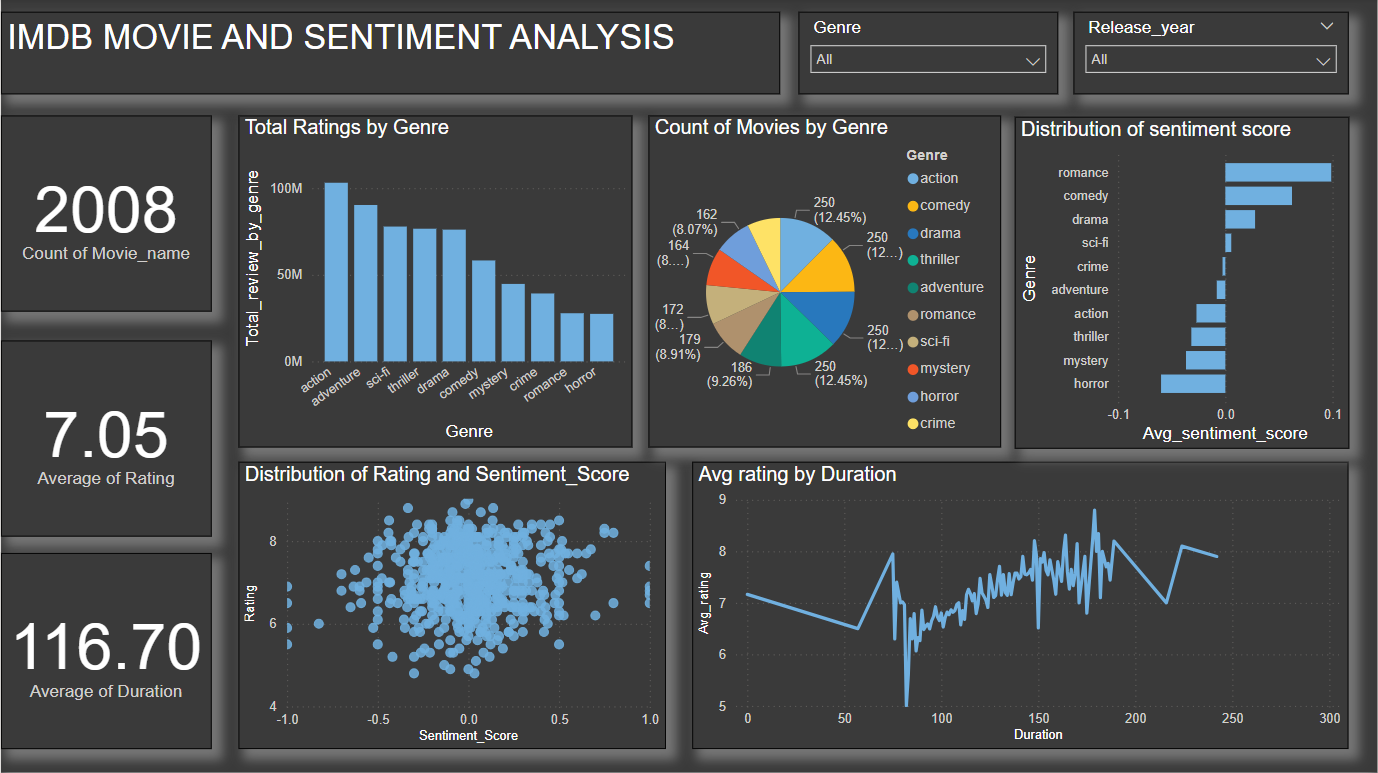

What the dashboard file says about the page in this screenshot:
{"tool":"powerbi","page":{"name":"Page 1","canvas":[1280,720],"ordinal":0},"visuals":[{"type":"columnChart","fields":{"Category":["Cleaned_Updated_Movies.Genre"],"Y":["Cleaned_Updated_Movies.Total_review_by_genre"]},"box":[220.9,109.8,366.4,308.7],"z":0},{"type":"scatterChart","title":"Rating VS Sentiment_Score","fields":{"X":["Cleaned_Updated_Movies.Sentiment_Score"],"Y":["Cleaned_Updated_Movies.Rating"]},"box":[220.9,430.9,397.9,267.6],"z":1000},{"type":"textbox","box":[0,12.3,724.5,76.8],"z":2000},{"type":"card","fields":{"Values":["Avg(Cleaned_Updated_Movies.Rating)"]},"box":[0,318.4,196.2,182.5],"z":3000},{"type":"card","fields":{"Values":["Avg(Cleaned_Updated_Movies.Duration)"]},"box":[0,516,196.2,182.5],"z":4000},{"type":"card","fields":{"Values":["CountNonNull(Cleaned_Updated_Movies.Movie_name)"]},"box":[0,109.8,196.2,182.5],"z":5000},{"type":"pieChart","fields":{"Category":["Cleaned_Updated_Movies.Genre"],"Y":["CountNonNull(Cleaned_Updated_Movies.Movie_name)"]},"box":[602.4,109.8,328,308.7],"z":6000},{"type":"lineChart","fields":{"Category":["Cleaned_Updated_Movies.Duration"],"Y":["Cleaned_Updated_Movies.Avg_rating"]},"box":[643.3,431.3,610,267.1],"z":7000},{"type":"slicer","fields":{"Values":["Cleaned_Updated_Movies.Genre"]},"box":[742.4,12.3,241.5,76.8],"z":8000},{"type":"clusteredBarChart","fields":{"Category":["Cleaned_Updated_Movies.Genre"],"Y":["Cleaned_Updated_Movies.Avg_sentiment_score"]},"box":[943,110,311,309],"z":9000},{"type":"slicer","fields":{"Values":["Cleaned_Updated_Movies.Release_year"]},"box":[997.7,12.5,255.7,76.9],"z":10000}]}

Visuals, with their boxes in screenshot pixels (x1, y1, x2, y2), scaled from the page's 1280x720 canvas onto the 1378x773 screenshot:
columnChart - Cleaned_Updated_Movies.Genre x Cleaned_Updated_Movies.Total_review_by_genre: {"left": 238, "top": 118, "right": 632, "bottom": 449}
"Rating VS Sentiment_Score" scatterChart: {"left": 238, "top": 463, "right": 666, "bottom": 750}
textbox: {"left": 0, "top": 13, "right": 780, "bottom": 96}
card - Avg(Cleaned_Updated_Movies.Rating): {"left": 0, "top": 342, "right": 211, "bottom": 538}
card - Avg(Cleaned_Updated_Movies.Duration): {"left": 0, "top": 554, "right": 211, "bottom": 750}
card - CountNonNull(Cleaned_Updated_Movies.Movie_name): {"left": 0, "top": 118, "right": 211, "bottom": 314}
pieChart - Cleaned_Updated_Movies.Genre x CountNonNull(Cleaned_Updated_Movies.Movie_name): {"left": 649, "top": 118, "right": 1002, "bottom": 449}
lineChart - Cleaned_Updated_Movies.Duration x Cleaned_Updated_Movies.Avg_rating: {"left": 693, "top": 463, "right": 1349, "bottom": 750}
slicer - Cleaned_Updated_Movies.Genre: {"left": 799, "top": 13, "right": 1059, "bottom": 96}
clusteredBarChart - Cleaned_Updated_Movies.Genre x Cleaned_Updated_Movies.Avg_sentiment_score: {"left": 1015, "top": 118, "right": 1350, "bottom": 450}
slicer - Cleaned_Updated_Movies.Release_year: {"left": 1074, "top": 13, "right": 1349, "bottom": 96}
